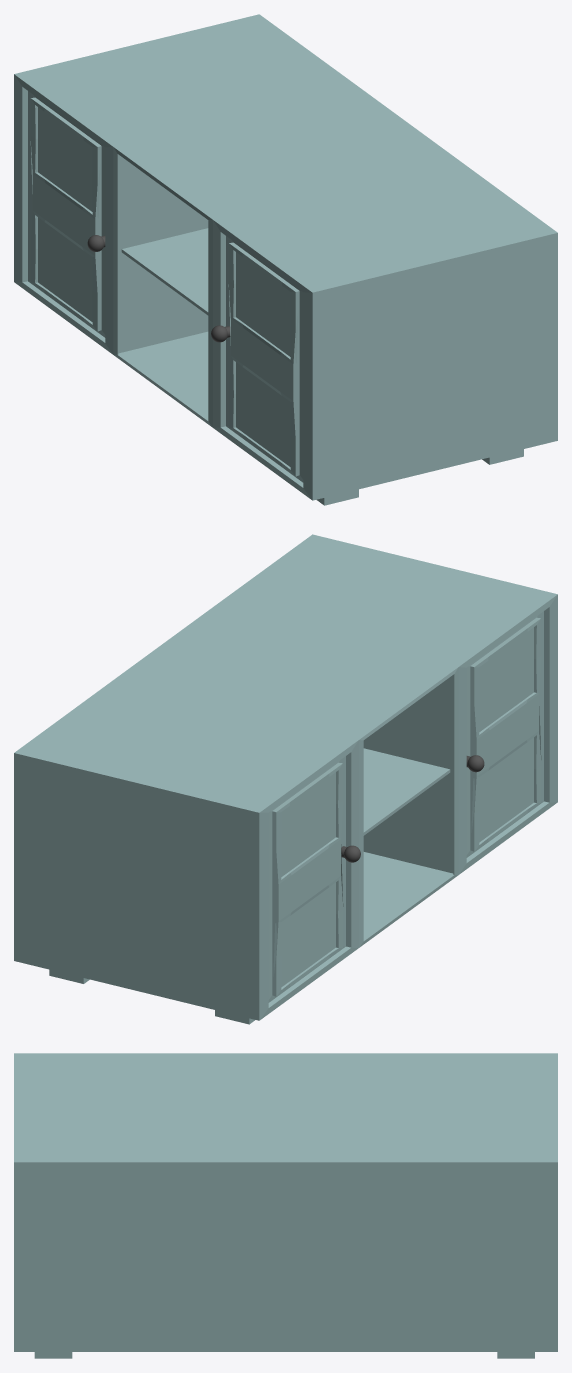
Rendered from TvStand.fbx.
3 renders of one model, top to bottom at view 1: azimuth 30°, elevation 25°; view 2: azimuth 150°, elevation 25°; view 3: azimuth 270°, elevation 25°, orthographic. The views are drawn at different scales.
Visible parts, largest first — view 1: Cube; view 2: Cube; view 3: Cube.
Boxes of the visible parts, bbox=[...] form: Cube: bbox=[14, 14, 557, 505]; Cube: bbox=[14, 534, 557, 1024]; Cube: bbox=[14, 1053, 557, 1358].
Size of the model in its own units: 69.82 by 58.5 by 140.
